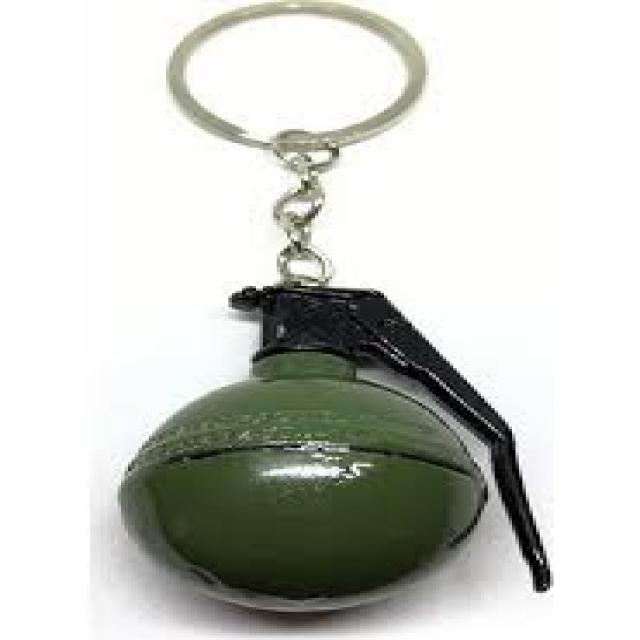grenade: (116, 282, 571, 625)
